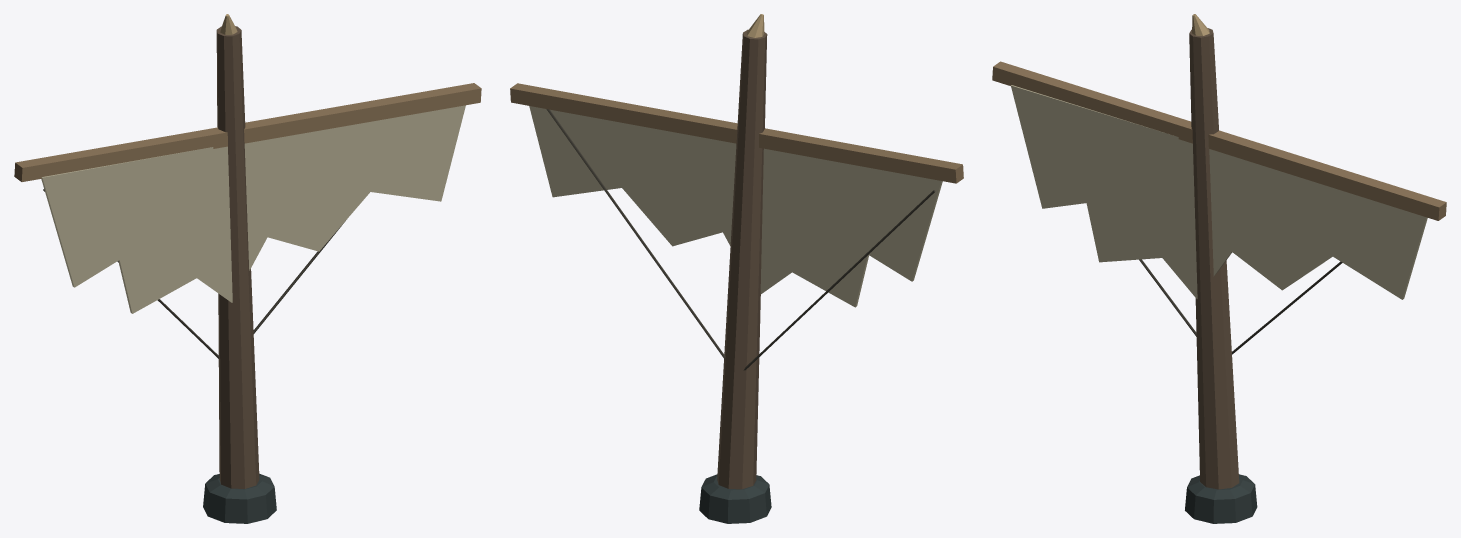
File: SW_Mast_BrokenSquare.fbx
The picture shows the model from 3 angles, left to right: view 1: azimuth 30°, elevation 25°; view 2: azimuth 150°, elevation 25°; view 3: azimuth 330°, elevation 25°; orthographic projection. The views are drawn at different scales.
Visible parts, largest first — view 1: SW_Mast_BrokenSquare; view 2: SW_Mast_BrokenSquare; view 3: SW_Mast_BrokenSquare.
Part boxes in pixels (<box>): SW_Mast_BrokenSquare: <box>14,14,481,523</box>; SW_Mast_BrokenSquare: <box>510,14,963,523</box>; SW_Mast_BrokenSquare: <box>992,14,1446,523</box>.
Size of the model in its own units: 7.11 by 7.5 by 0.9511.
